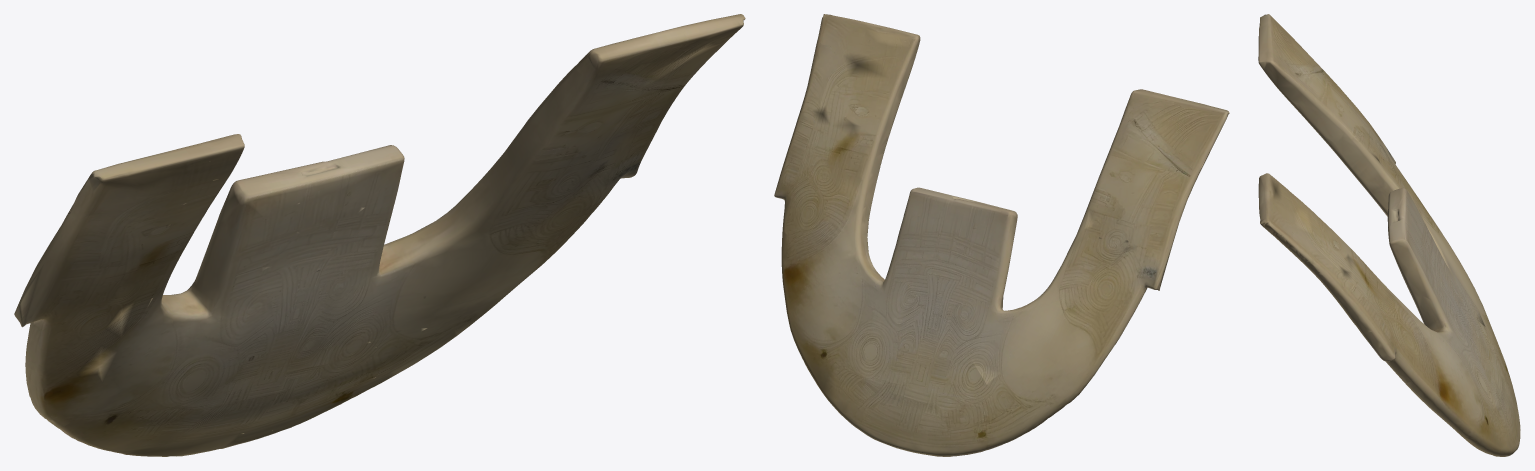
File: jade-trident-a-roaming.glb
The picture shows the model from 3 angles, left to right: view 1: azimuth 30°, elevation 25°; view 2: azimuth 150°, elevation 25°; view 3: azimuth 270°, elevation 25°; orthographic projection. The views are drawn at different scales.
Visible parts, largest first — view 1: node_0; view 2: node_0; view 3: node_0.
Boxes of the visible parts, x1=… form: node_0: x1=14, y1=14, x2=745, y2=456; node_0: x1=774, y1=14, x2=1229, y2=456; node_0: x1=1258, y1=14, x2=1520, y2=456.
Size of the model in its own units: 0.9076 by 0.6511 by 0.4818.
1 material, 1 textured.
